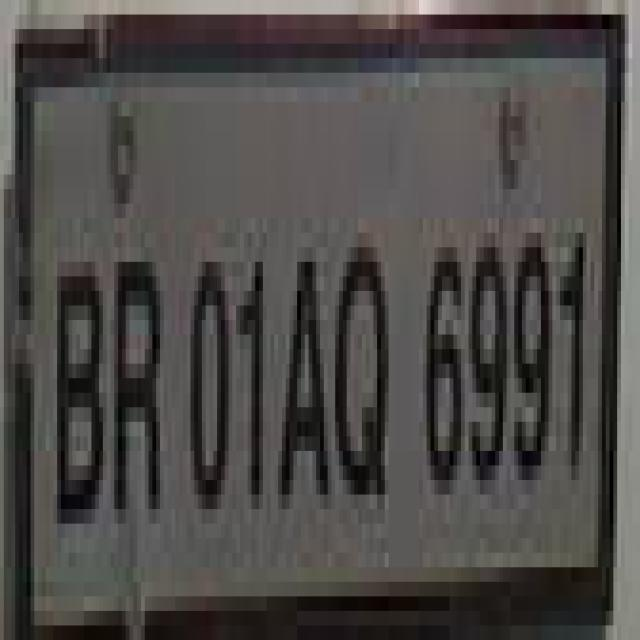license_plate: (12, 0, 598, 611)
